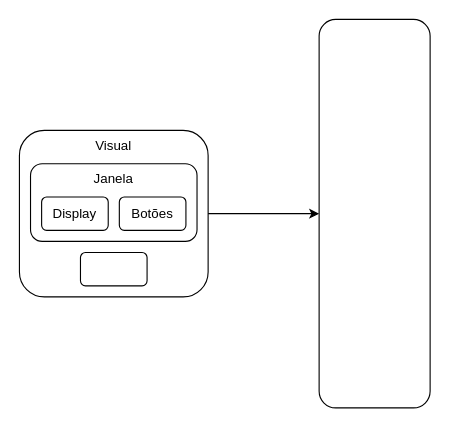
Image size: 450x427. Some labels were removed from this diagram. The shapes that lost their labels are listed below. From the top down, each one's centre as x and y in pixels, then its label:
At pixel 374 213: "Barramento de eventos".
At pixel 113 268: "Pop-up".
